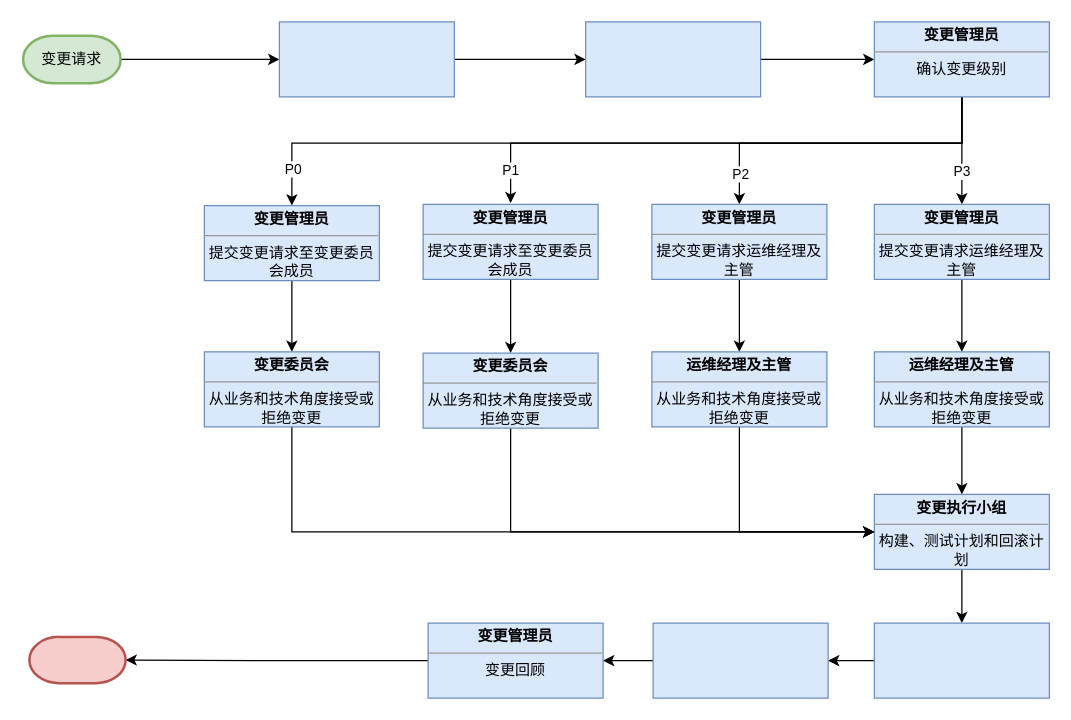
Some shapes in this 1071 by 720 pixel diagram are drawn without their labels. The shapes that lost their labels are listed below. From the top down, each one's box as (x1, y1, x2, y2) in pixels, then its label:
(278, 21, 454, 97): 变更管理员 请求过滤
(584, 21, 761, 97): 变更管理员 变更分类
(28, 635, 126, 684): 关闭
(652, 622, 828, 698): 变更管理员 测试变更
(873, 622, 1049, 698): 测试人员 测试变更
